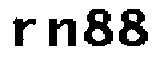8: (118, 6, 150, 55), (81, 6, 115, 52)
n: (45, 13, 76, 51)
r: (13, 17, 37, 48)
